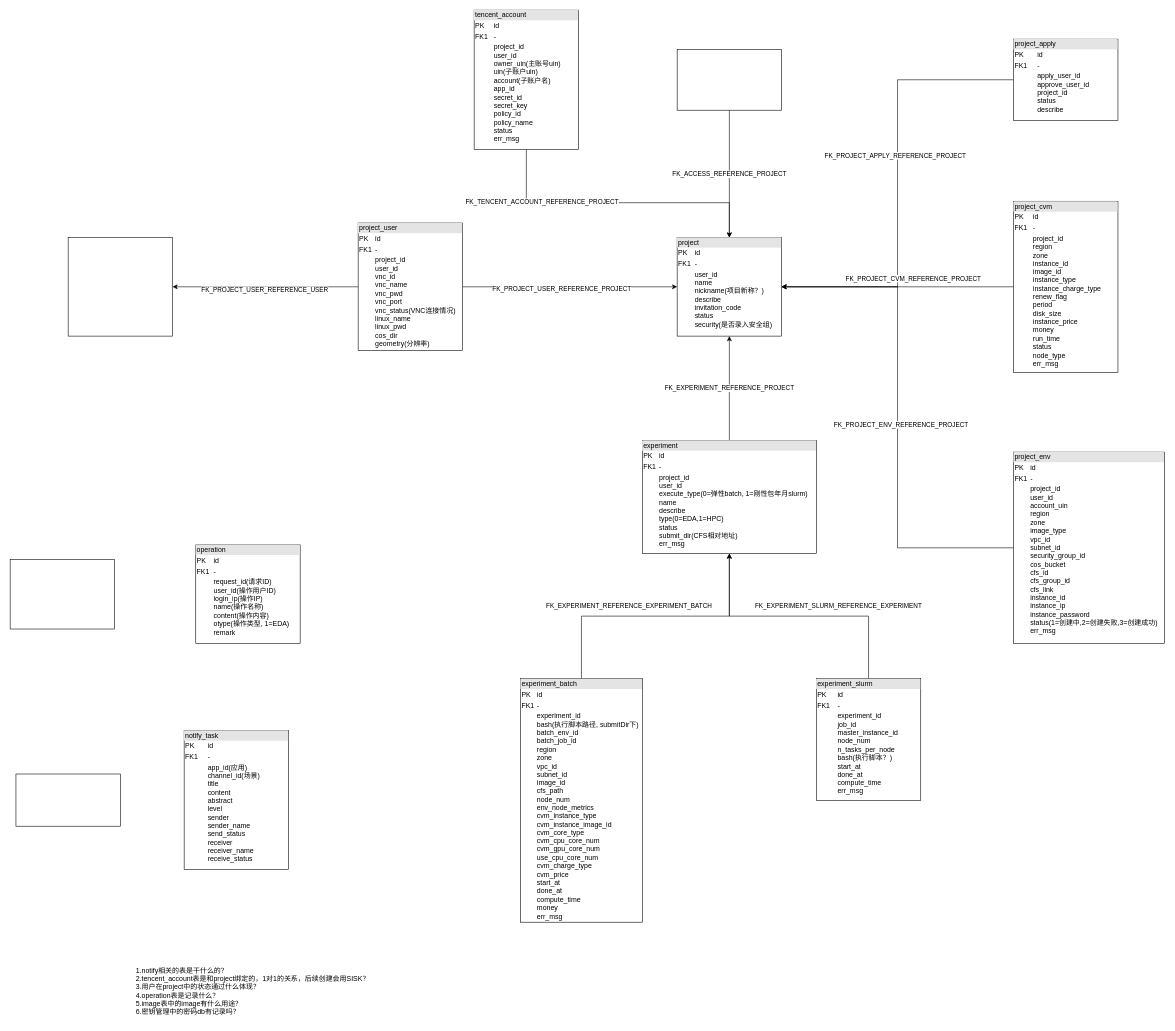
The diagram is 1175 pixels wide and 1031 high, and some of its shapes have lost their labels. The centre of each missing label's shape, as x and y in pixels:
access PK id FK1 - project_id describe allow_ip(限制IP): the point at 729,79
image PK id FK1 - name value status image_type(镜像类型？): the point at 62,594
notify_template PK id FK1 - name content: the point at 67,799
user PK id FK1 - account(U) way name email phone is_notify agreement_version: the point at 120,286
